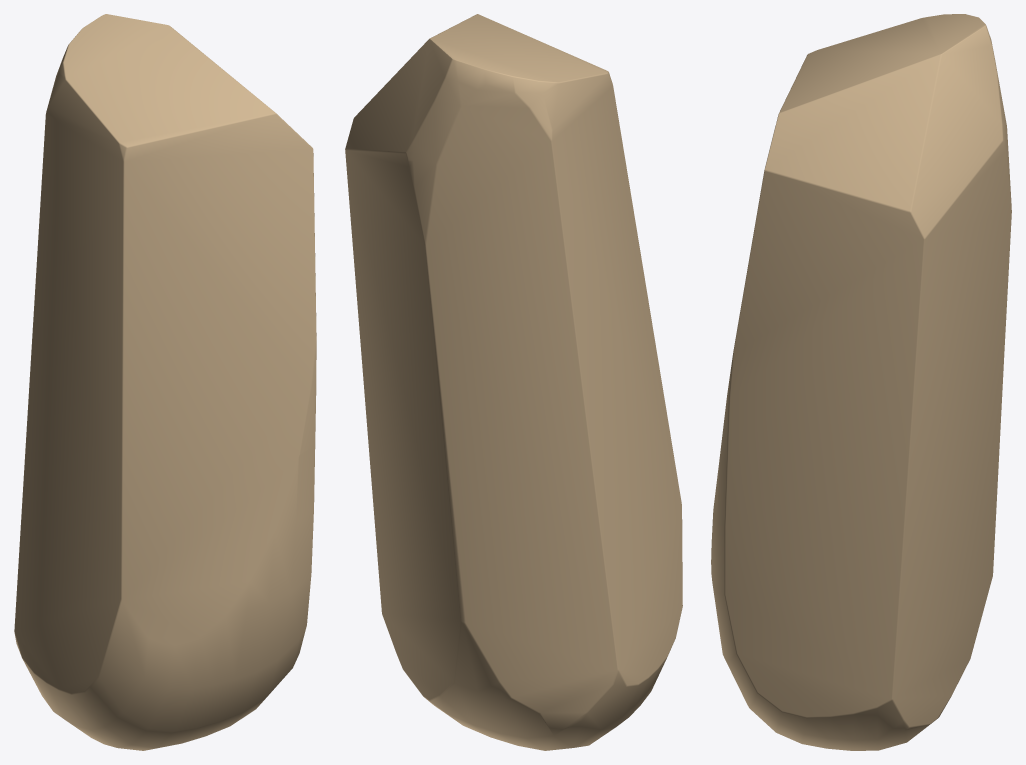
The model's file is rock_stack_01.glb.
The picture shows the model from 3 angles, left to right: view 1: azimuth 30°, elevation 25°; view 2: azimuth 150°, elevation 25°; view 3: azimuth 270°, elevation 25°; orthographic projection. The views are drawn at different scales.
Visible parts, largest first — view 1: rock_stack_01; view 2: rock_stack_01; view 3: rock_stack_01.
Boxes of the visible parts, x1=… form: rock_stack_01: x1=14, y1=14, x2=316, y2=750; rock_stack_01: x1=345, y1=14, x2=682, y2=750; rock_stack_01: x1=711, y1=14, x2=1011, y2=750.
Size of the model in its own units: 2.5 by 6.33 by 2.41.
